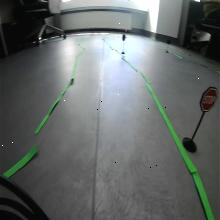stop: (200, 85, 218, 113)
